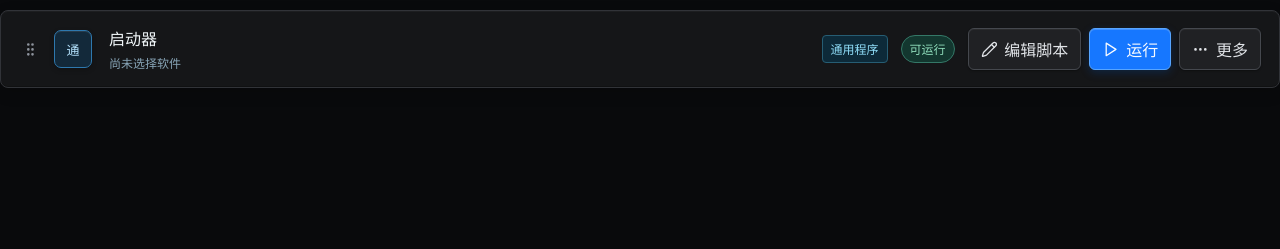
Test case: uses a top-layer more menu that can be dismissed with Escape
The image size is (1280, 249).
Click the button with class "more-trigger". click: point(1220, 49)
box: [1179,28,1261,70]
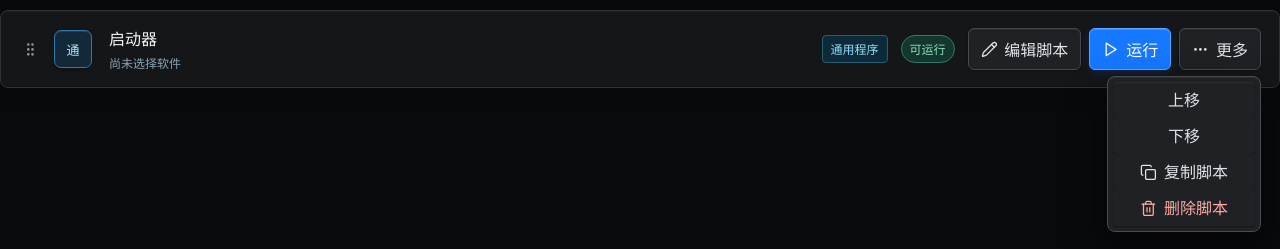
Result: the text "复制脚本" is shown at [1113,154,1255,190]
Press Escape in the menu, box [1107,76,1261,232]
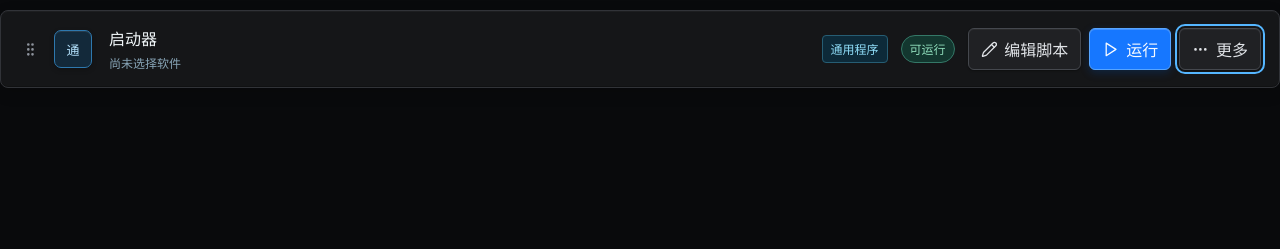
Result: the menu is gone
